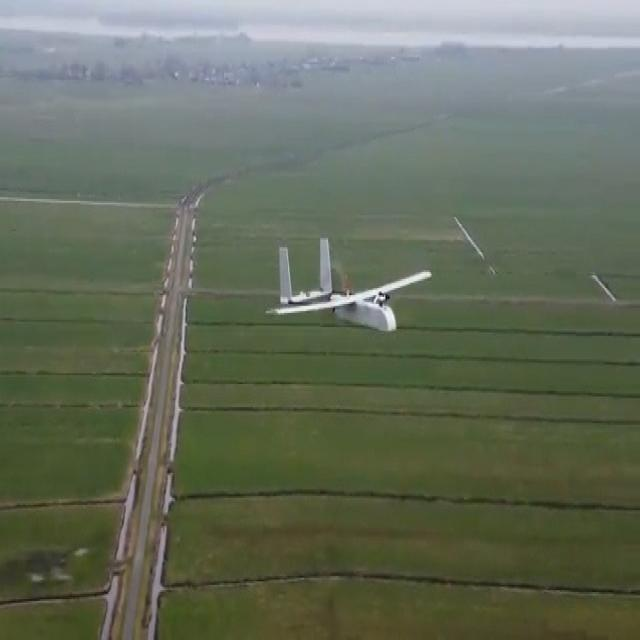iha: (276, 267, 431, 321)
